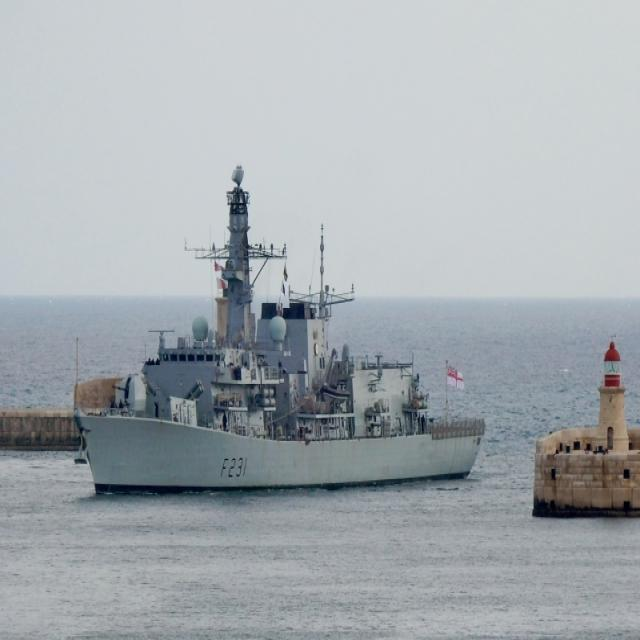Fragata: (70, 148, 493, 510)
